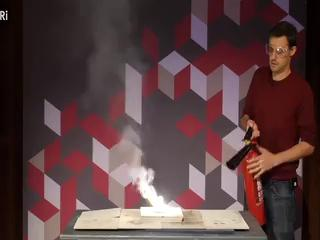Fire: (128, 166, 176, 212)
